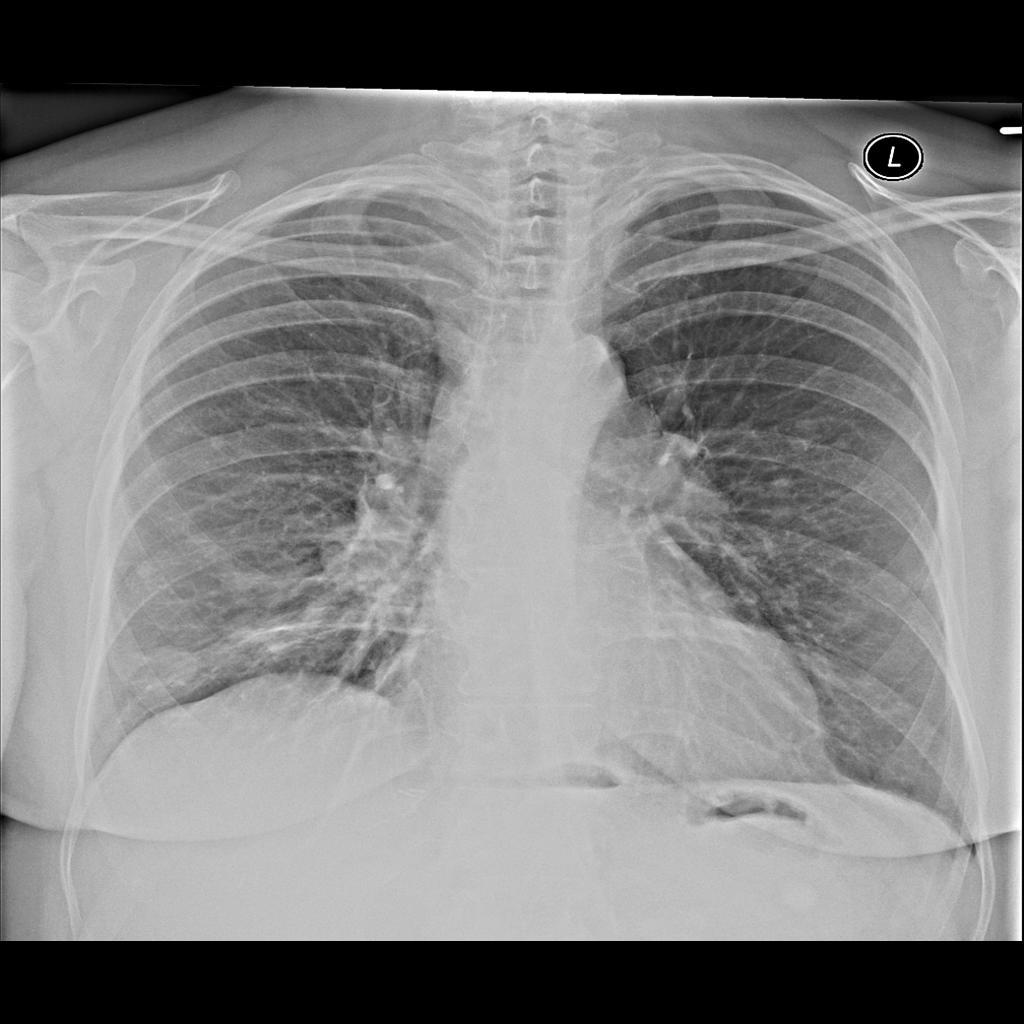Nodule: (304, 520, 406, 595), (138, 640, 202, 701)
